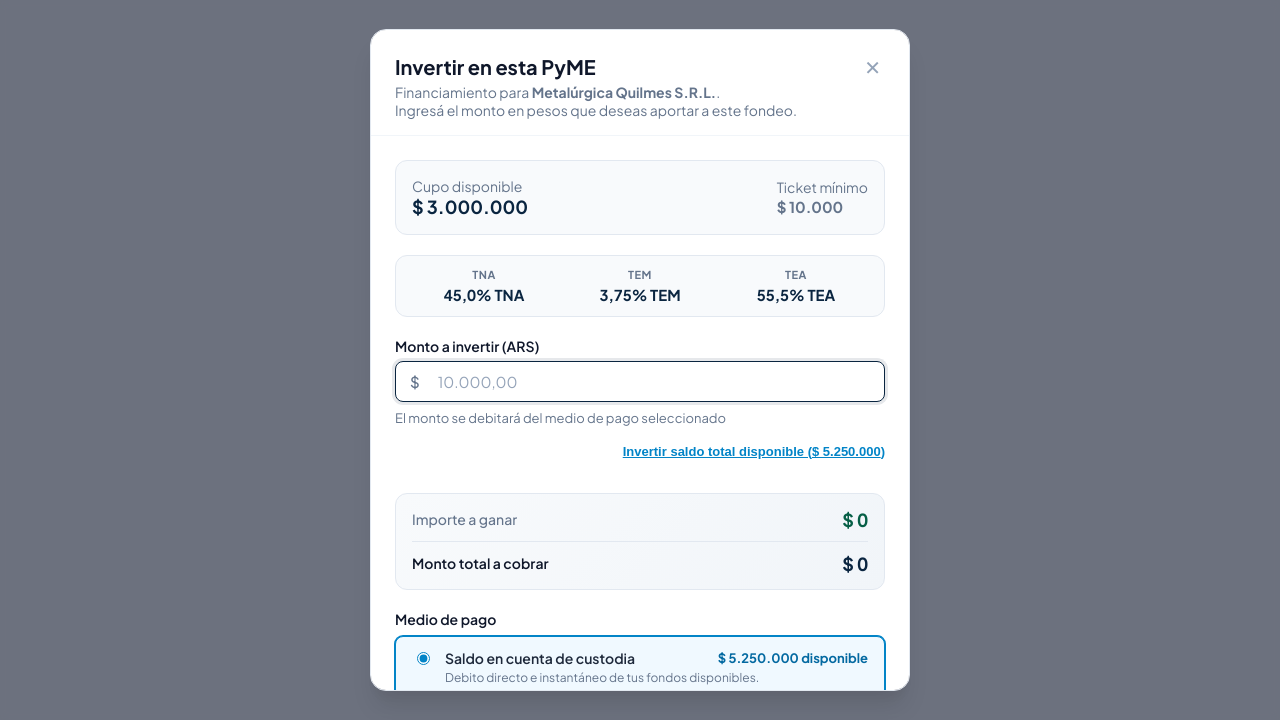
Test: InvestmentModal Checkout & BaaS Sandbox Flow (Issue #66) › Card Form Sandbox & Inline Validations › validates card fields and renders accessible error alerts
# Enter amount
Type "50000" into the field with test id "investment-amount-input" at x=654, y=381, box top-left (424, 362), bottom-right (884, 401)
(page scrolled)
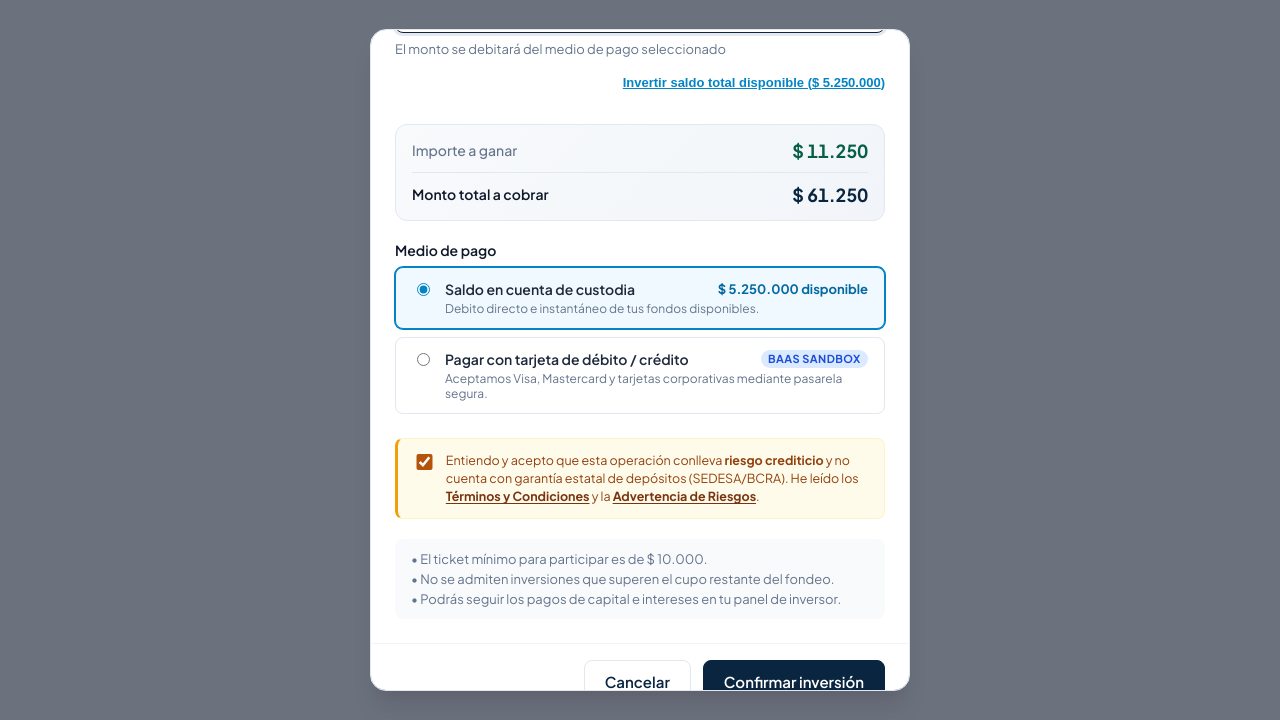
# Switch to card
Click the radio button with test id "payment-method-card" at x=424, y=360, box top-left (417, 353), bottom-right (430, 366)
(page scrolled)
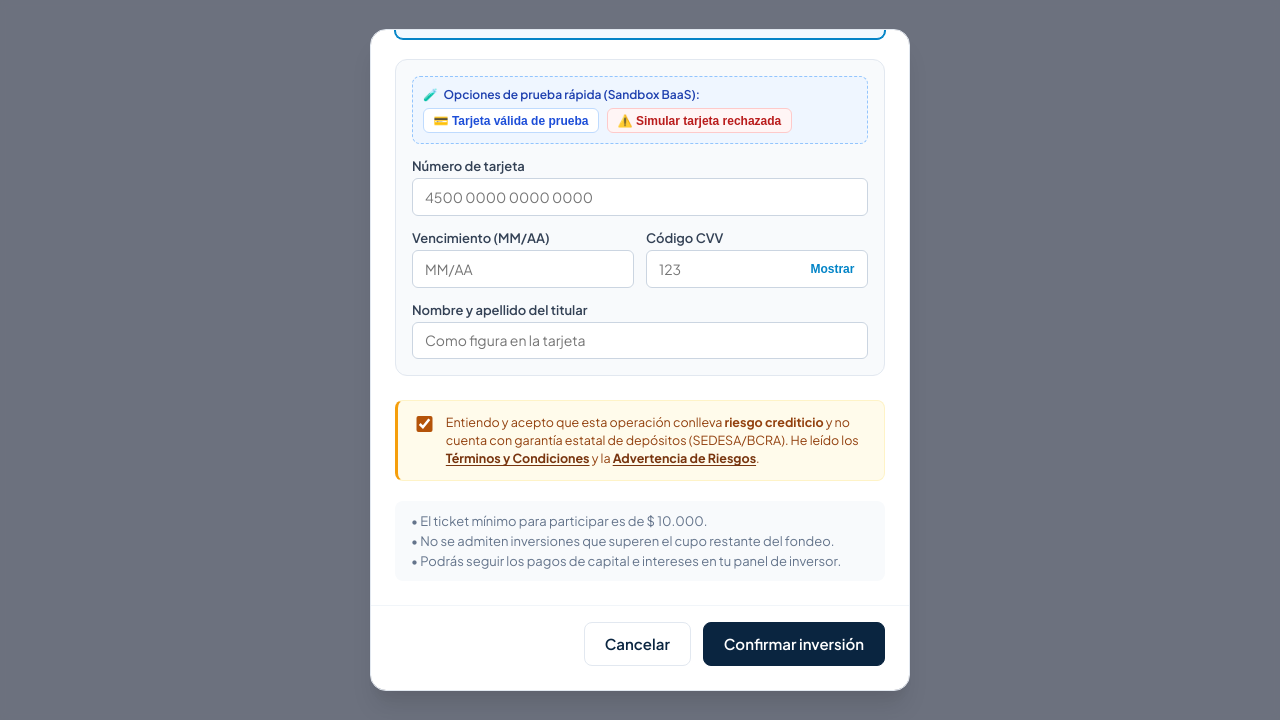
Check: the element with test id "card-form-container" is shown, box top-left (395, 59), bottom-right (885, 376)
# Submit with empty card fields
Click the button with test id "modal-confirm-button" at x=794, y=644, box top-left (703, 622), bottom-right (885, 666)
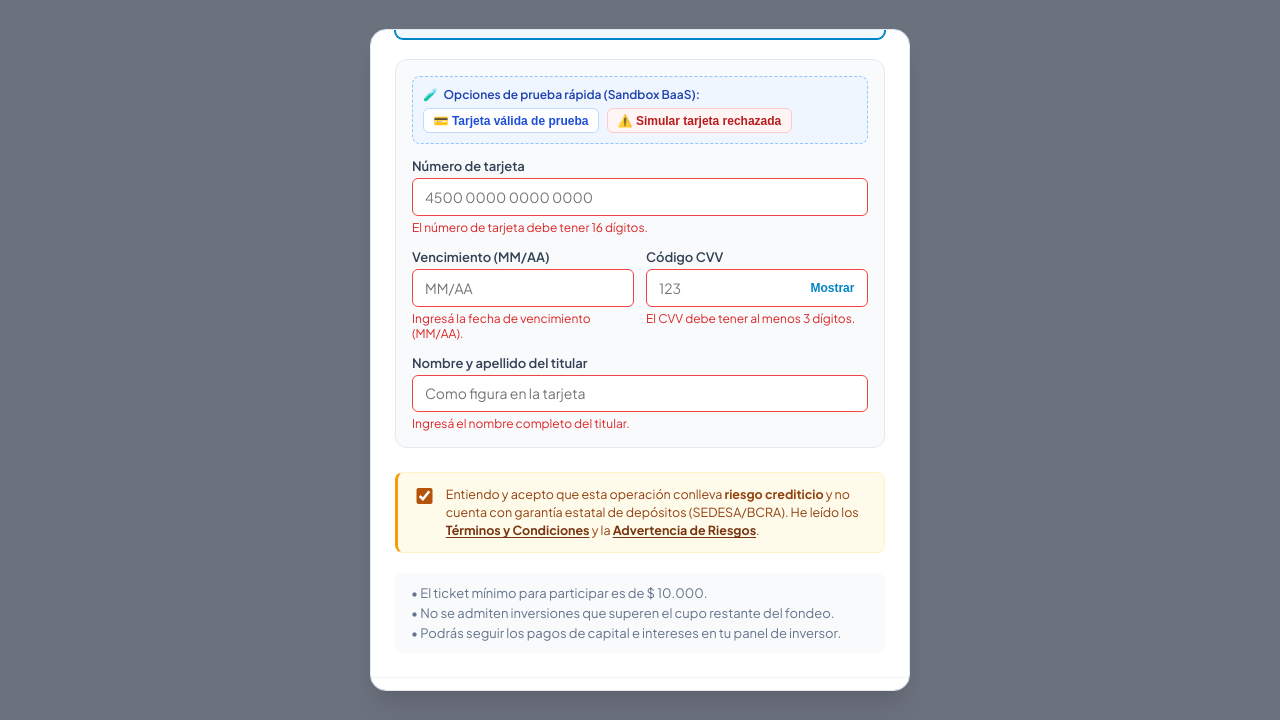
Check: the message with test id "card-number-error" reads "El número de tarjeta debe tener 16 dígitos.", box top-left (412, 220), bottom-right (648, 235)
Check: the message with test id "card-expiry-error" reads "Ingresá la fecha de vencimiento (MM/AA).", box top-left (412, 310), bottom-right (591, 340)
Check: the message with test id "card-cvv-error" reads "El CVV debe tener al menos 3 dígitos.", box top-left (646, 310), bottom-right (855, 326)
